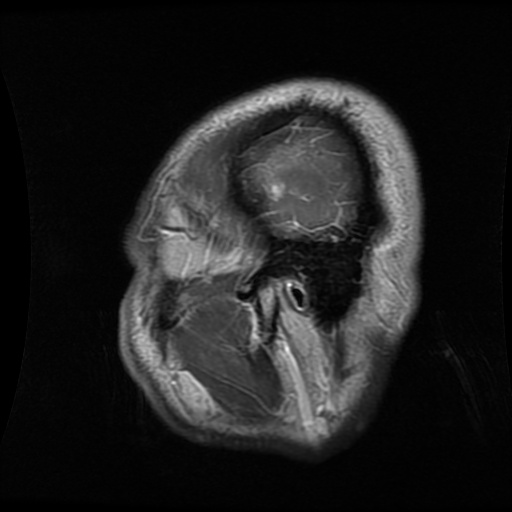glioma: (265, 181, 287, 204)
